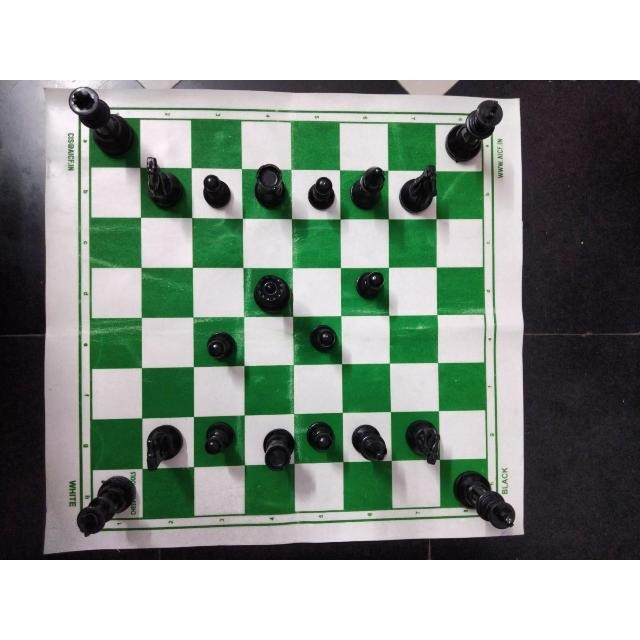black-bishop: (344, 163, 388, 220), (346, 416, 391, 465)
black-king: (67, 85, 136, 161), (452, 468, 520, 535), (74, 473, 137, 542), (445, 94, 505, 165)
black-knight: (139, 149, 186, 209), (142, 417, 188, 475), (402, 414, 444, 470), (399, 161, 440, 218)
black-pawn: (199, 417, 239, 463), (303, 171, 340, 215), (350, 266, 390, 306), (302, 416, 340, 456), (197, 170, 233, 212), (201, 324, 237, 365), (306, 322, 339, 358)
black-queen: (244, 267, 296, 316)
black-rook: (250, 159, 292, 213), (258, 424, 300, 471)
